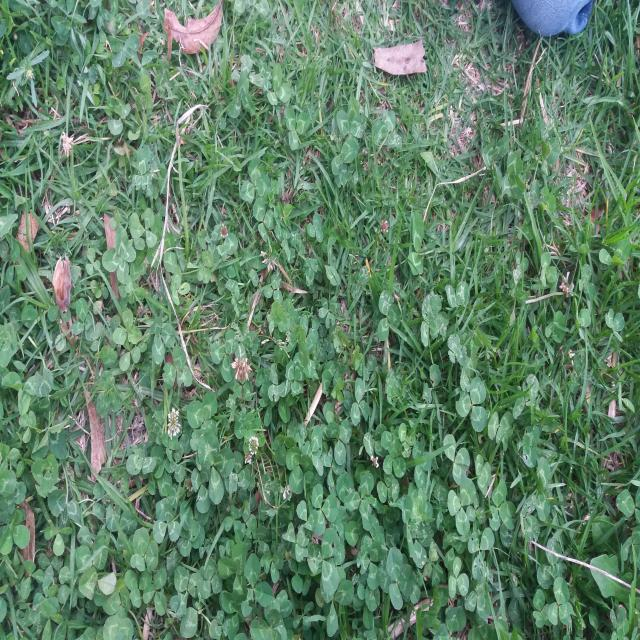Four Leaf Clover: (101, 225, 136, 285), (526, 179, 545, 209), (256, 62, 272, 91)
